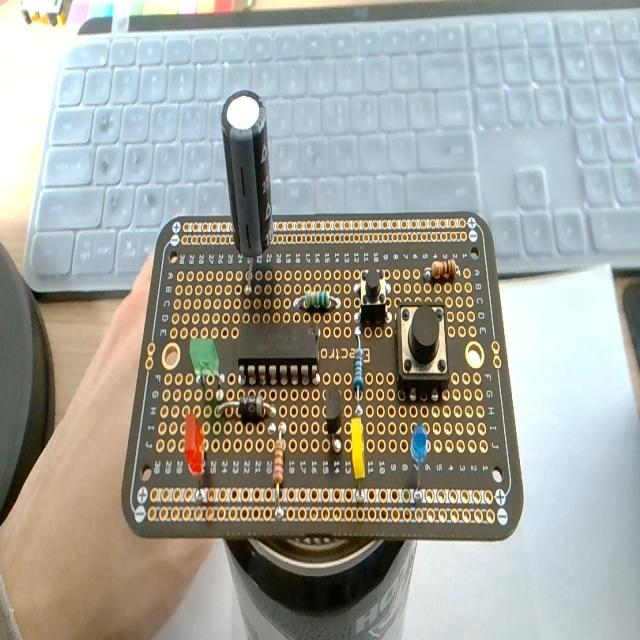Electrolytic capacitor: (221, 92, 275, 294)
IC: (234, 321, 319, 385)
diode: (218, 396, 278, 423), (294, 288, 342, 312)
led: (409, 423, 430, 500), (189, 337, 220, 382), (351, 417, 367, 502), (184, 411, 205, 474)
resistor: (270, 422, 287, 515), (424, 260, 458, 283), (353, 347, 365, 395)
switch: (396, 300, 449, 394), (357, 269, 390, 325)
transistor: (324, 385, 344, 456)
